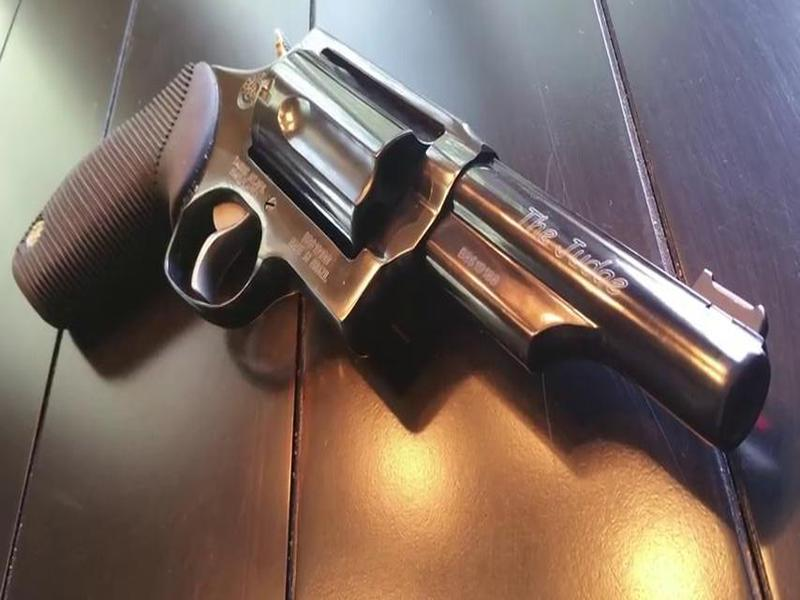Revolver: (27, 1, 775, 456)
